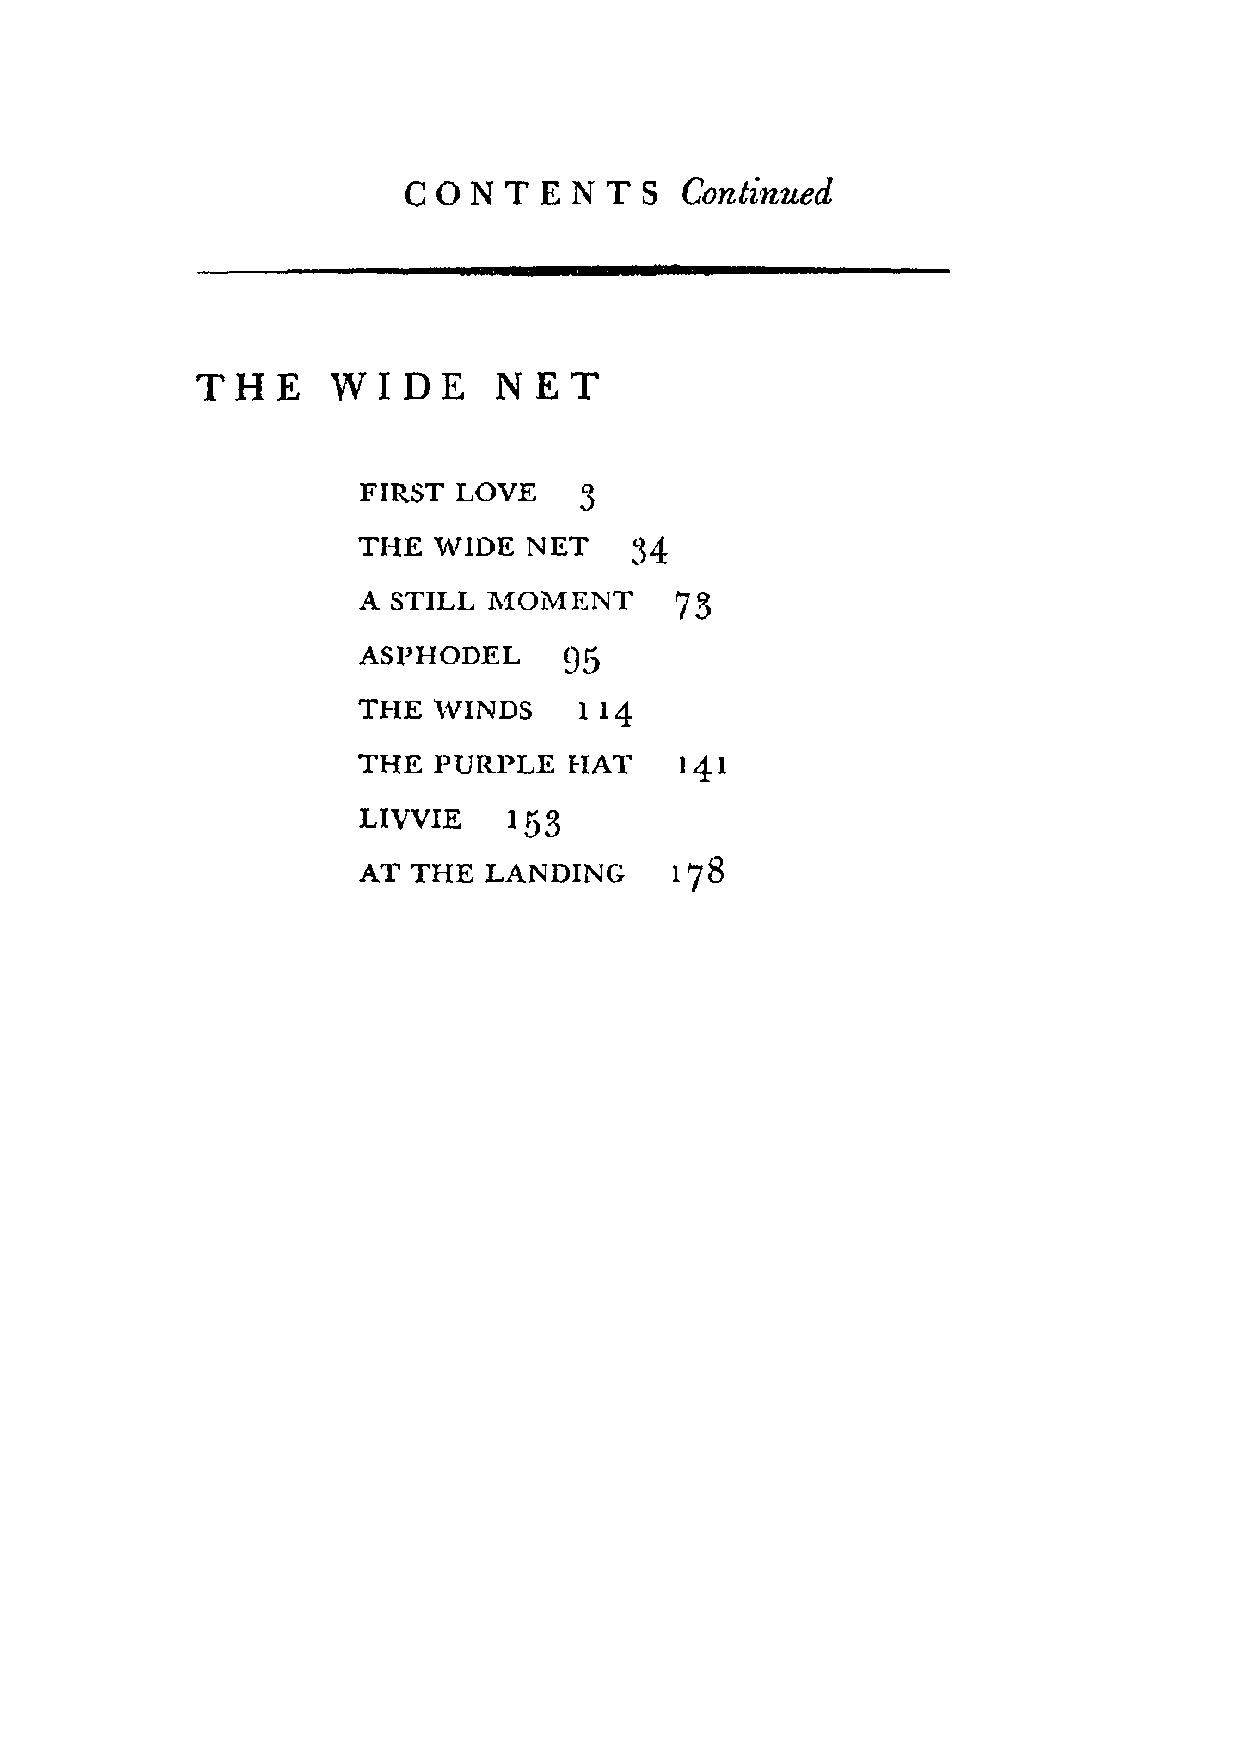TOC_chapter: (192, 365, 601, 417), (356, 745, 633, 778), (357, 582, 633, 613), (360, 527, 592, 561), (357, 858, 627, 884), (356, 475, 537, 506), (360, 636, 531, 667), (353, 692, 526, 718), (353, 801, 471, 832)
TOC_pagenumber: (668, 855, 731, 892), (501, 805, 564, 840), (676, 747, 730, 785), (574, 694, 637, 725), (624, 530, 674, 568), (560, 643, 604, 676), (672, 586, 713, 620), (577, 475, 597, 511)
chapter: (403, 170, 847, 209)
